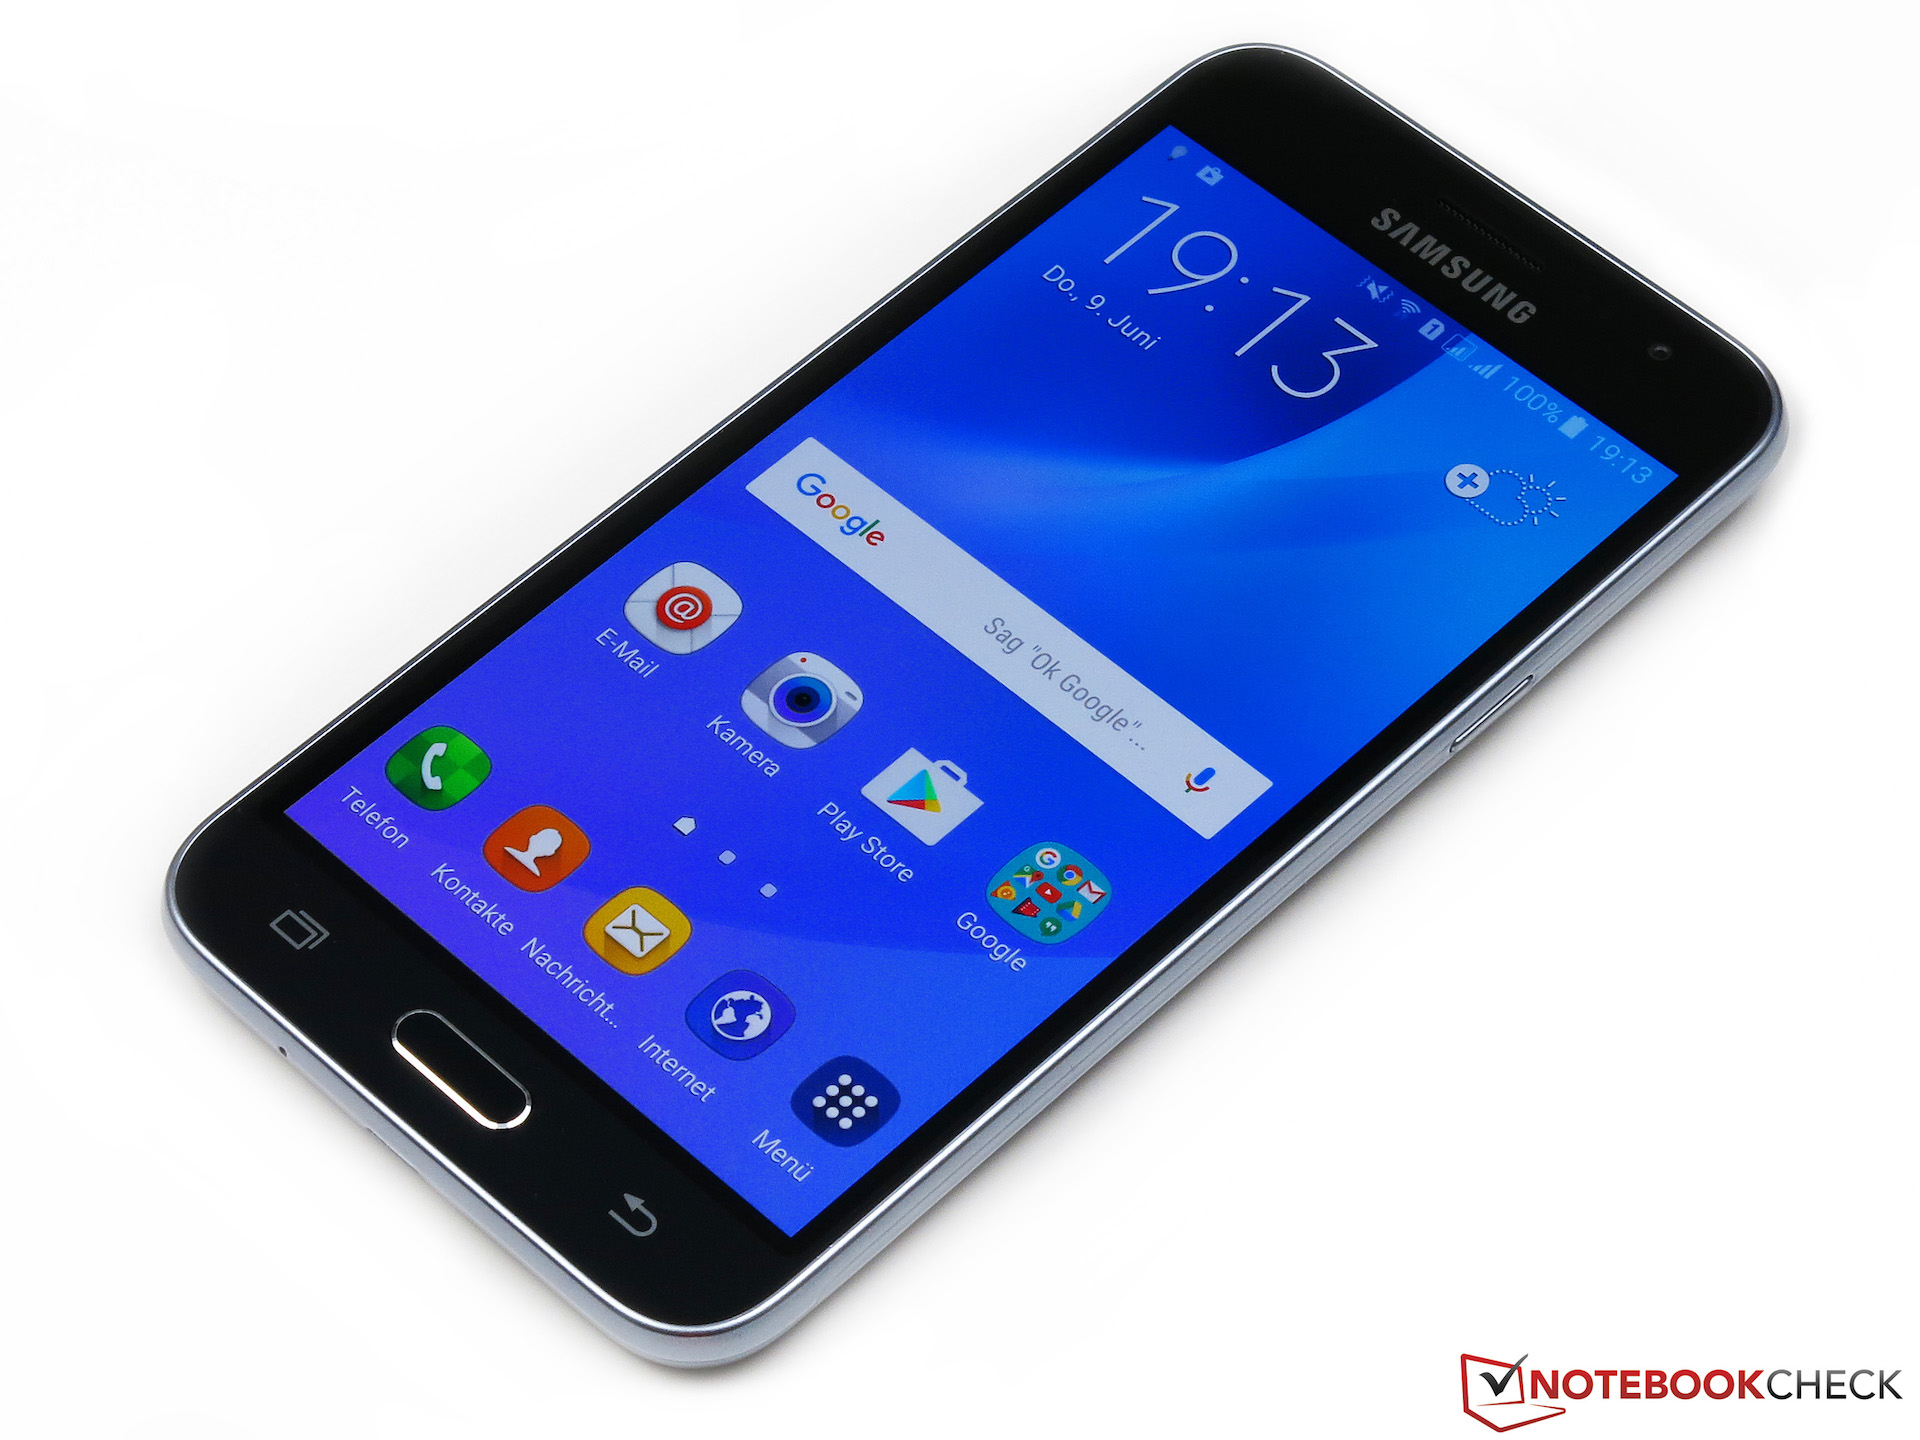smartphone: (159, 39, 1793, 1379)
